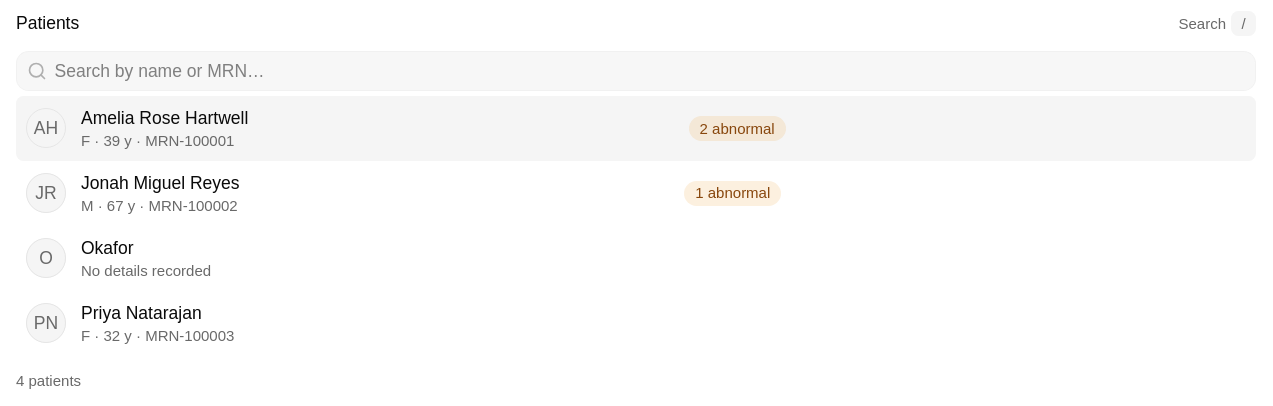
PatientDirectory › filters by name or MRN as you type
Expected: the text "Amelia Rose Hartwell" is shown, [81,106,248,131]
Type "pri" into the dropdown named "Search patients by name or MRN" at x=651, y=71, box [47,58,1255,84]
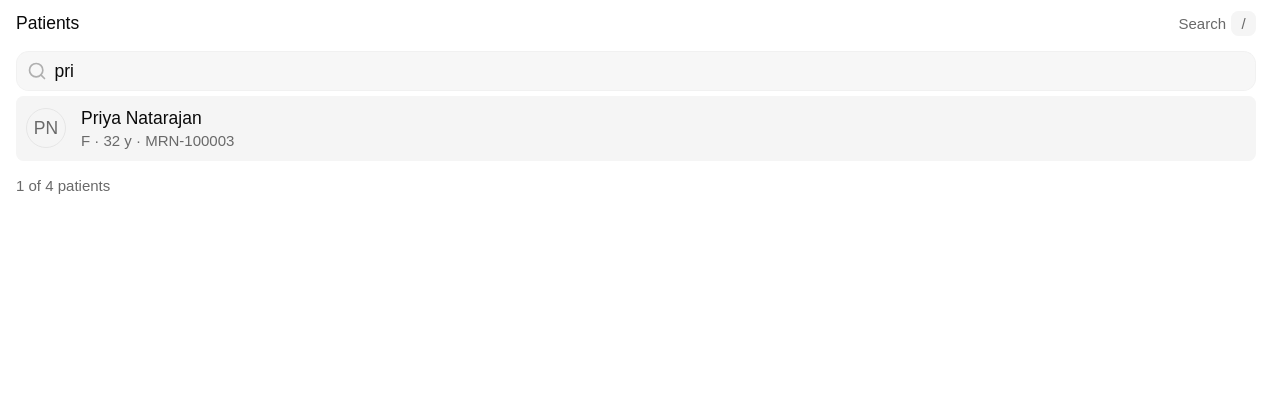
Expected: the number of options is 1, [16,96,1256,161]
Expected: the option shows "Priya Natarajan", [16,96,1256,161]
Replace the text in the dropdown named "Search patients by name or MRN" with "100002" at x=651, y=71, box [47,58,1255,84]
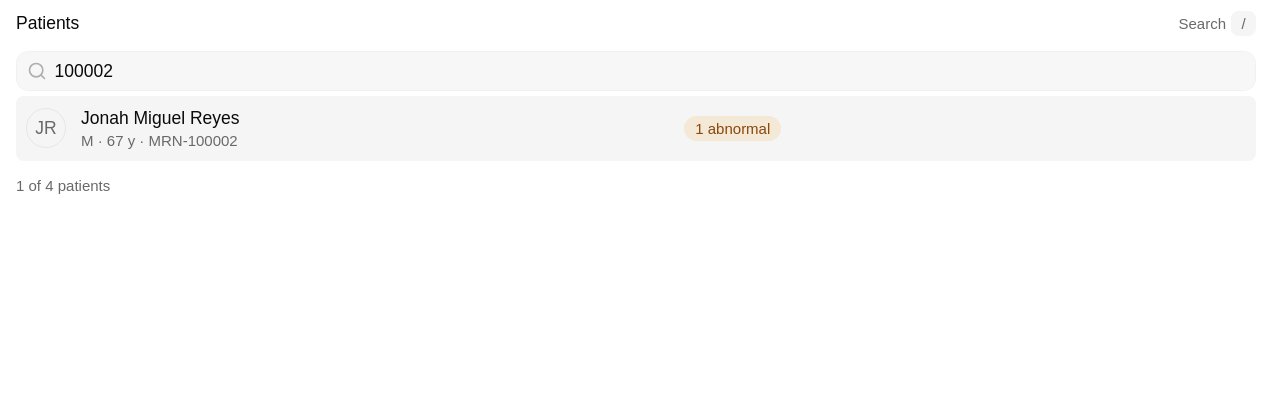
Expected: the option shows "Jonah Miguel Reyes", [16,96,1256,161]
Replace the text in the dropdown named "Search patients by name or MRN" with "zzz" at x=651, y=71, box [47,58,1255,84]
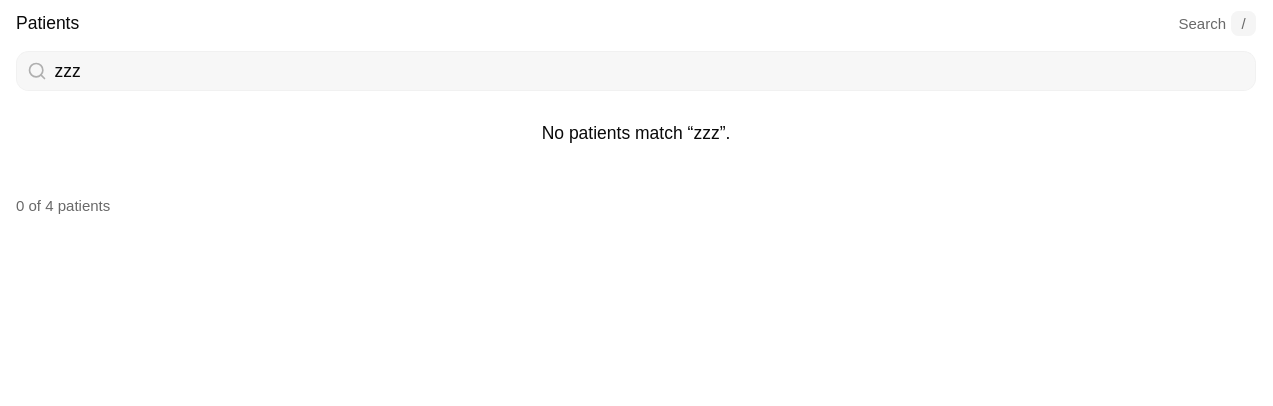
Expected: no options are shown
Expected: the text "No patients match “zzz”." is shown, [542,123,730,143]
